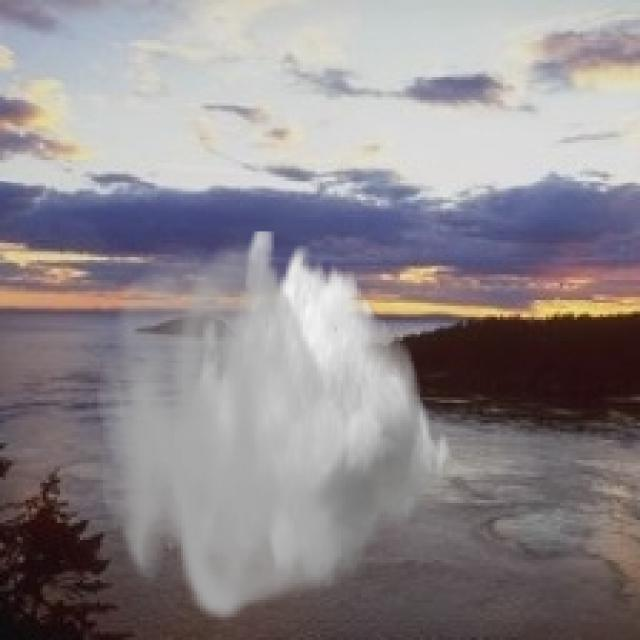smoke: (97, 231, 454, 626)
